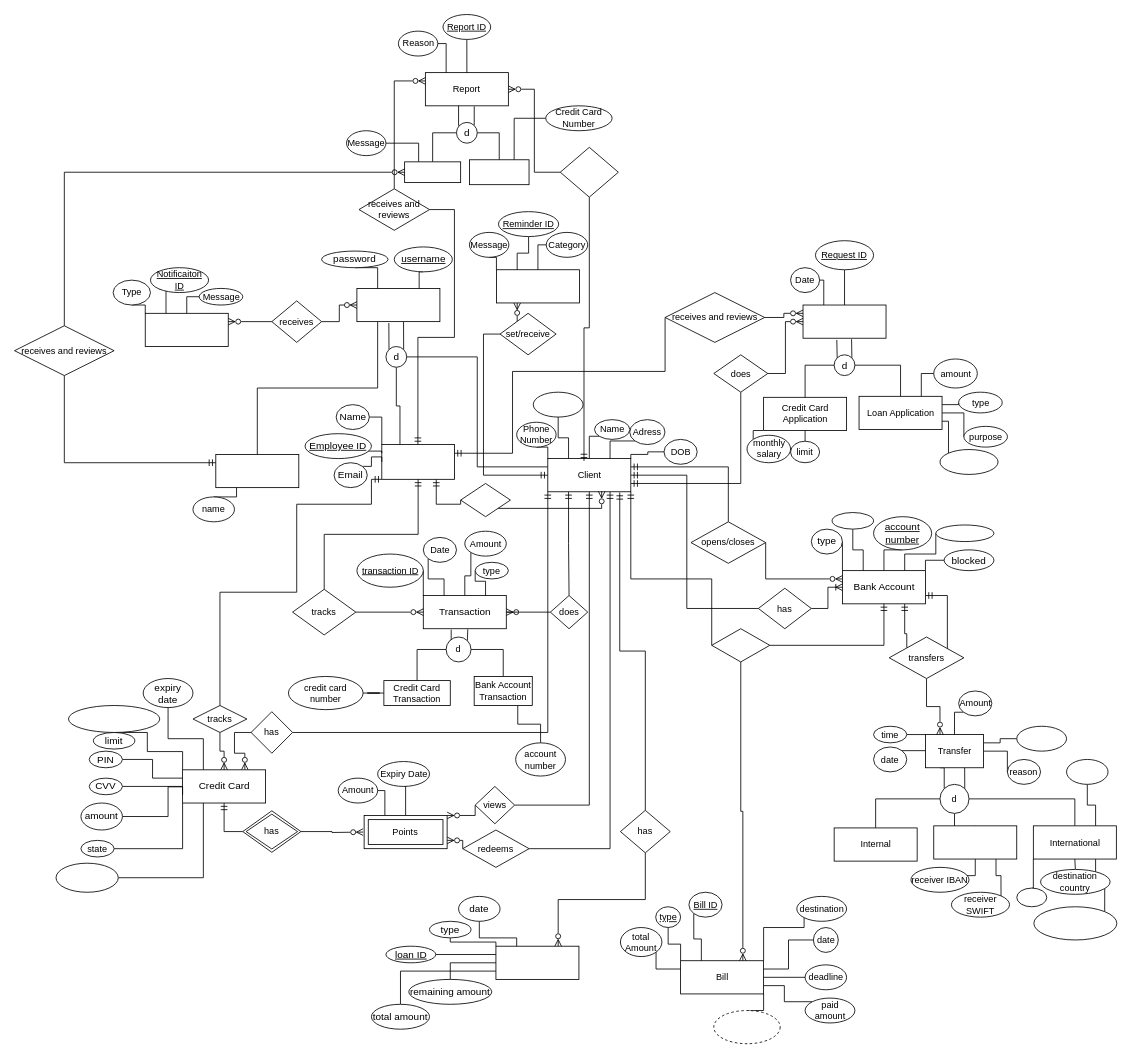
This 1132x1058 diagram has some shape labels left out. The shapes that lost their labels are listed below. From the top down, each one's centre as x and y in pixels, then its label:
(432,172): Technical Issue
(499,172): Credit Card Issue
(588,171): lodges
(398,305): User Account
(537,286): Reminder
(186,329): Notification
(844,321): Request
(557,404): National ID
(257,471): Admin
(417,461): Banker
(968,461): collateral
(485,500): handles
(852,520): IBAN
(964,533): balance
(740,645): pays
(114,718): credit_card_Number
(1041,738): transfer ID
(1087,771): bank branch
(975,842): Domestic
(86,877): transaction histotry
(1031,897): fee
(1075,923): amount in foreign currency
(537,962): Loan
(746,1027): outstanding amount
